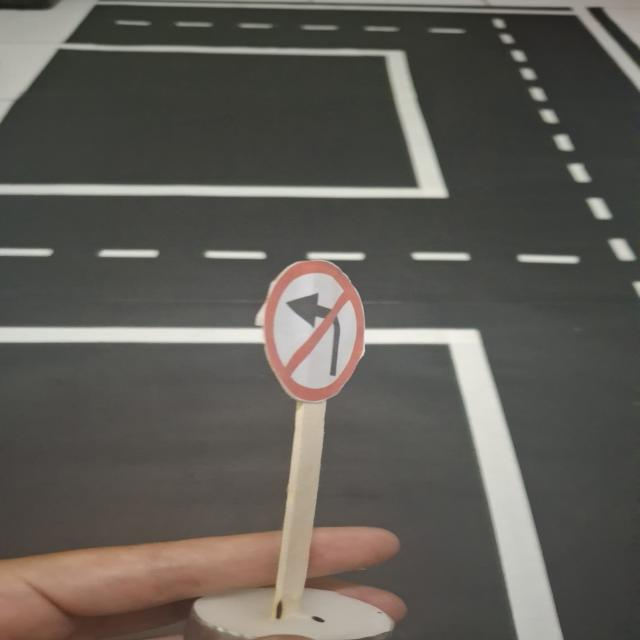Dilarang Belok Kiri: (261, 259, 366, 402)
